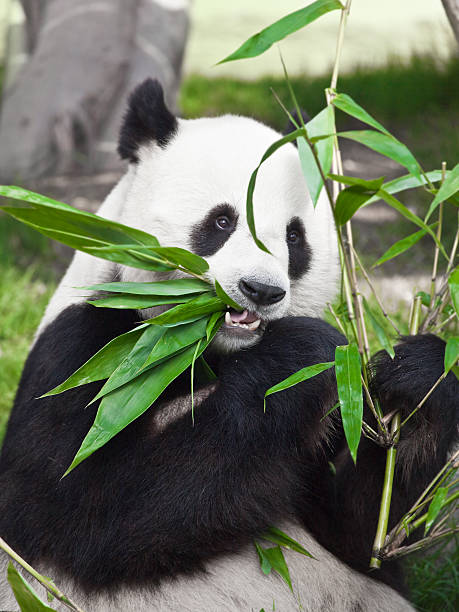panda: (61, 54, 373, 361)
